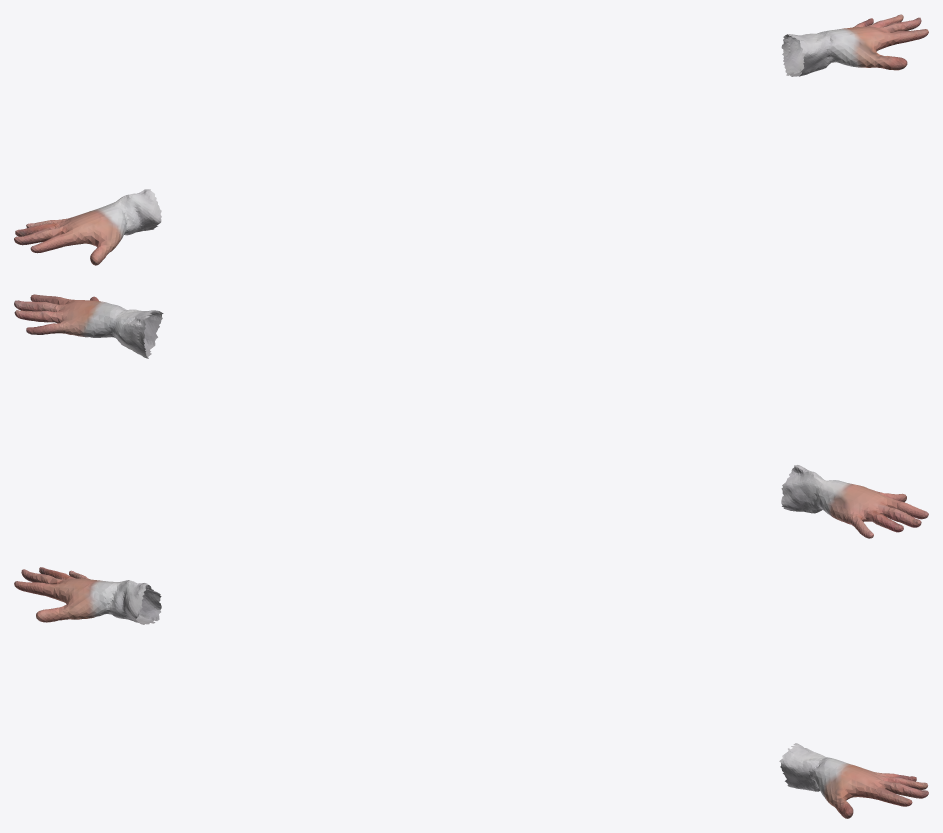
The model's file is animation_lowres.obj.
3 renders of one model, top to bottom at view 1: azimuth 30°, elevation 25°; view 2: azimuth 150°, elevation 25°; view 3: azimuth 330°, elevation 25°, orthographic.
Bounding box in the file's own units: 1.69 × 0.0826 × 0.1694.
